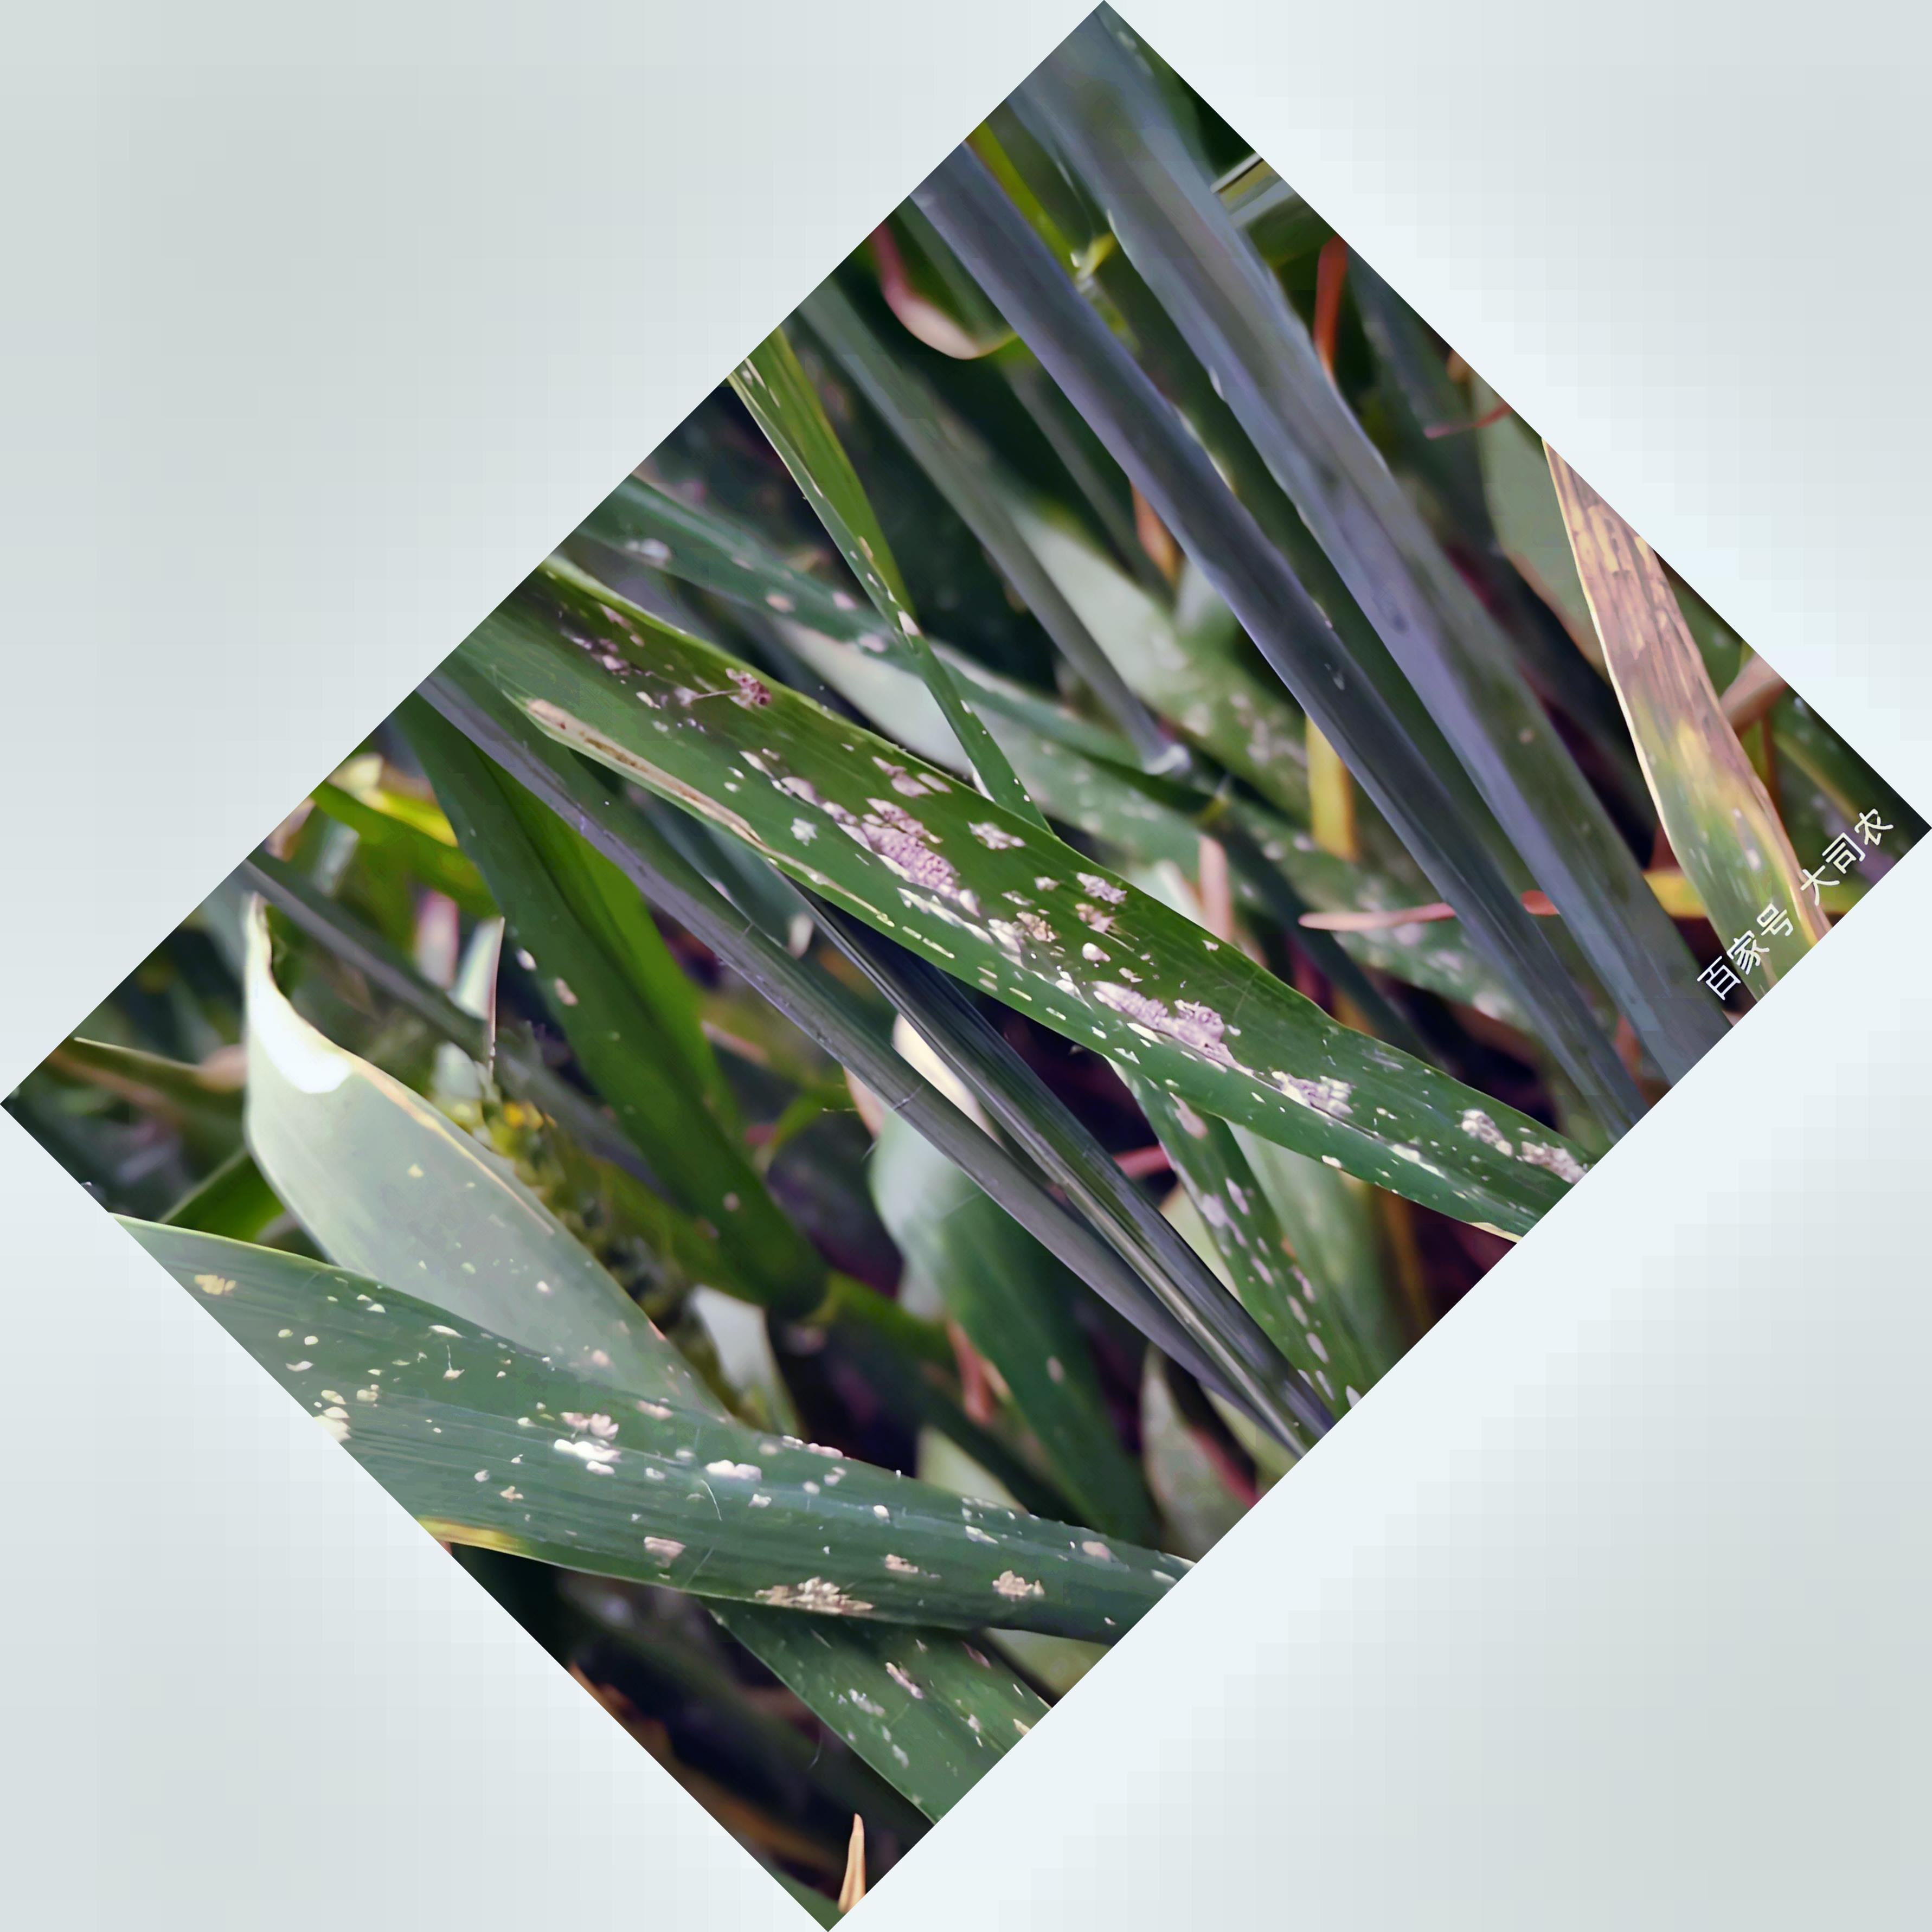Powdery Mildew: (635, 671, 1424, 1180)
